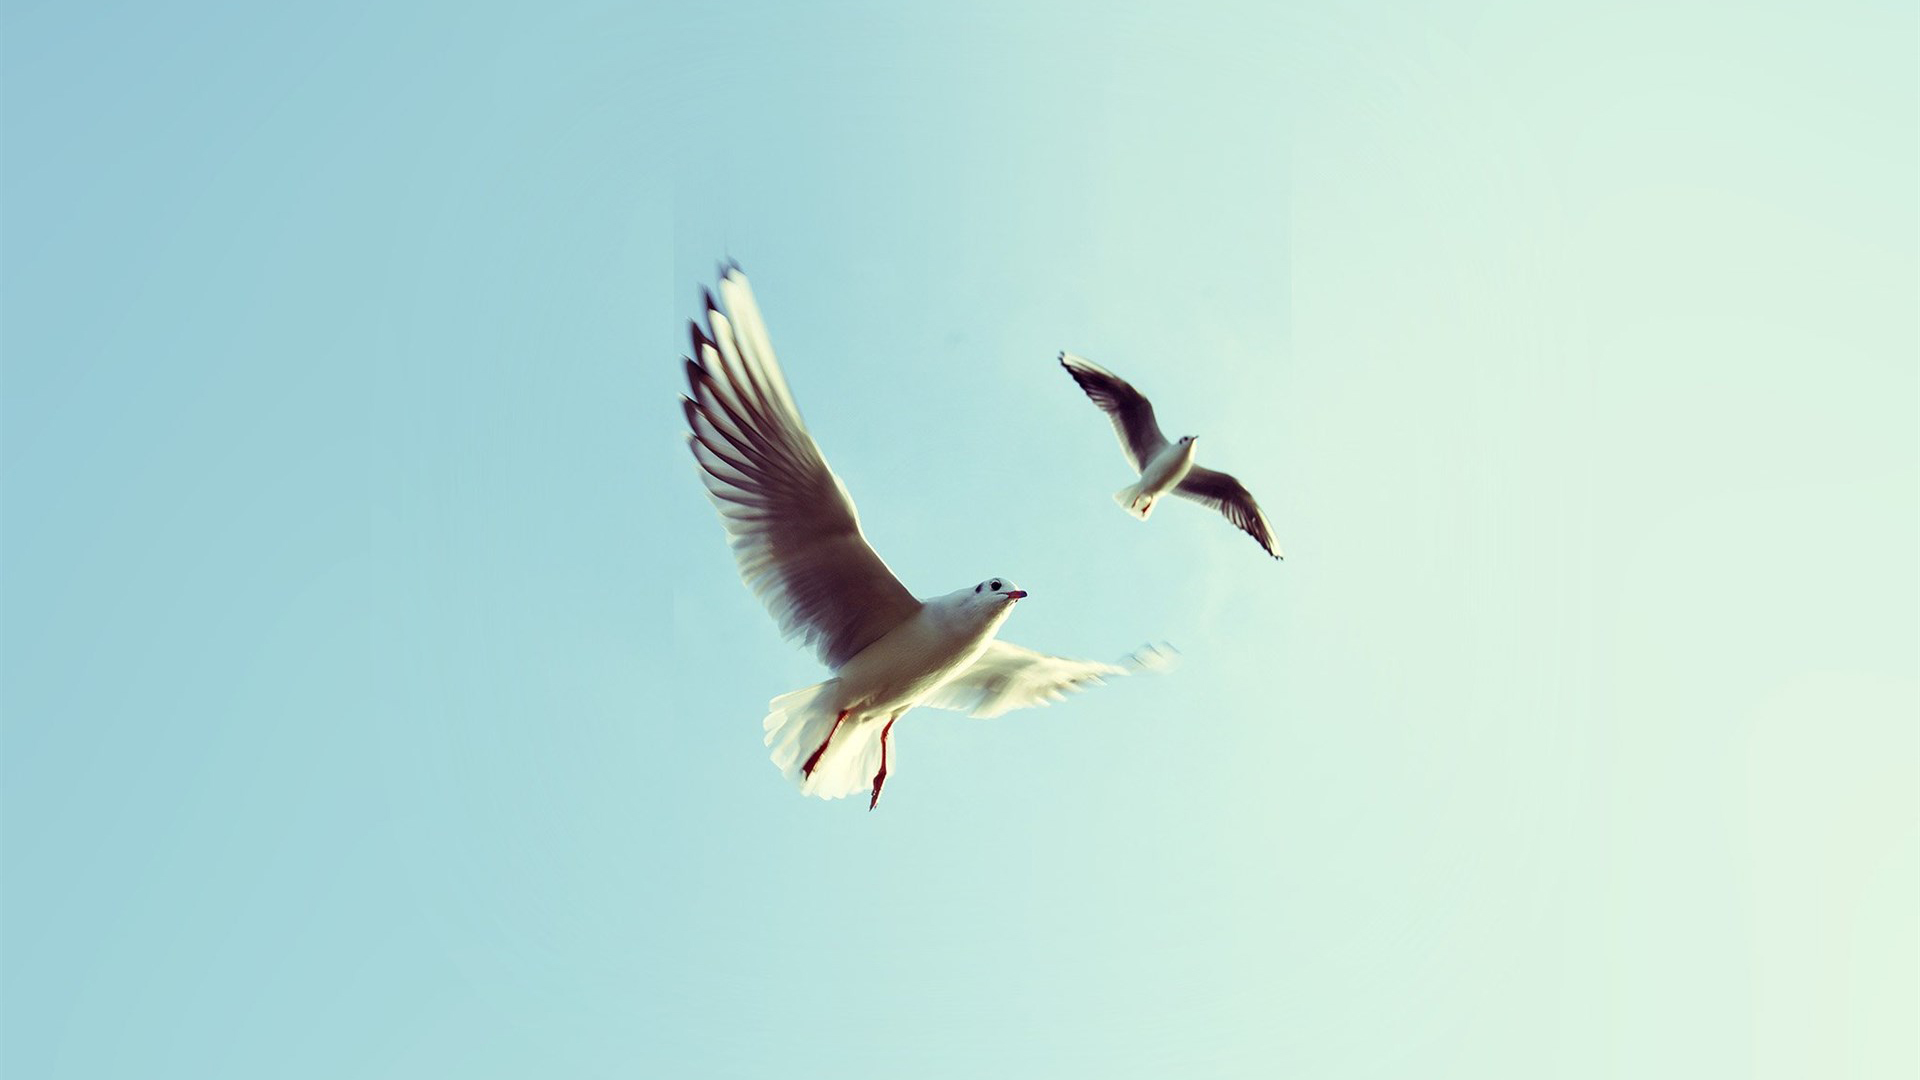bird: (680, 251, 1176, 808), (1052, 342, 1288, 563)
